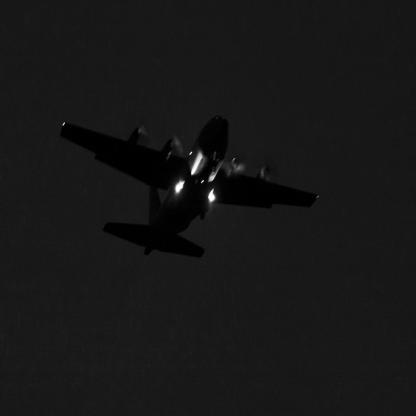C130: (61, 116, 320, 260)
